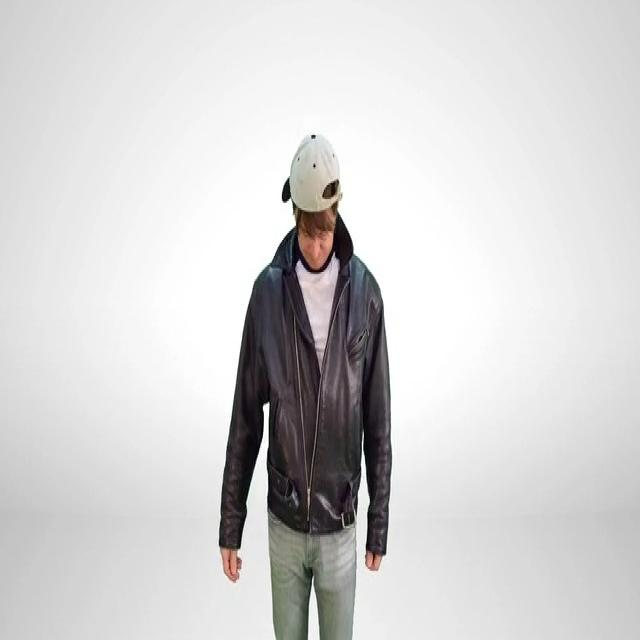Jacket_Wearer: (221, 237, 392, 573)
Person: (222, 138, 391, 640)
